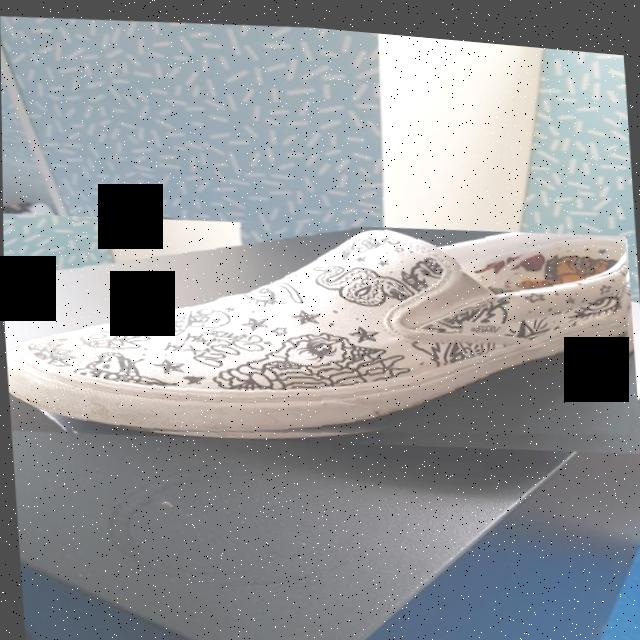shoe: (2, 181, 640, 475)
